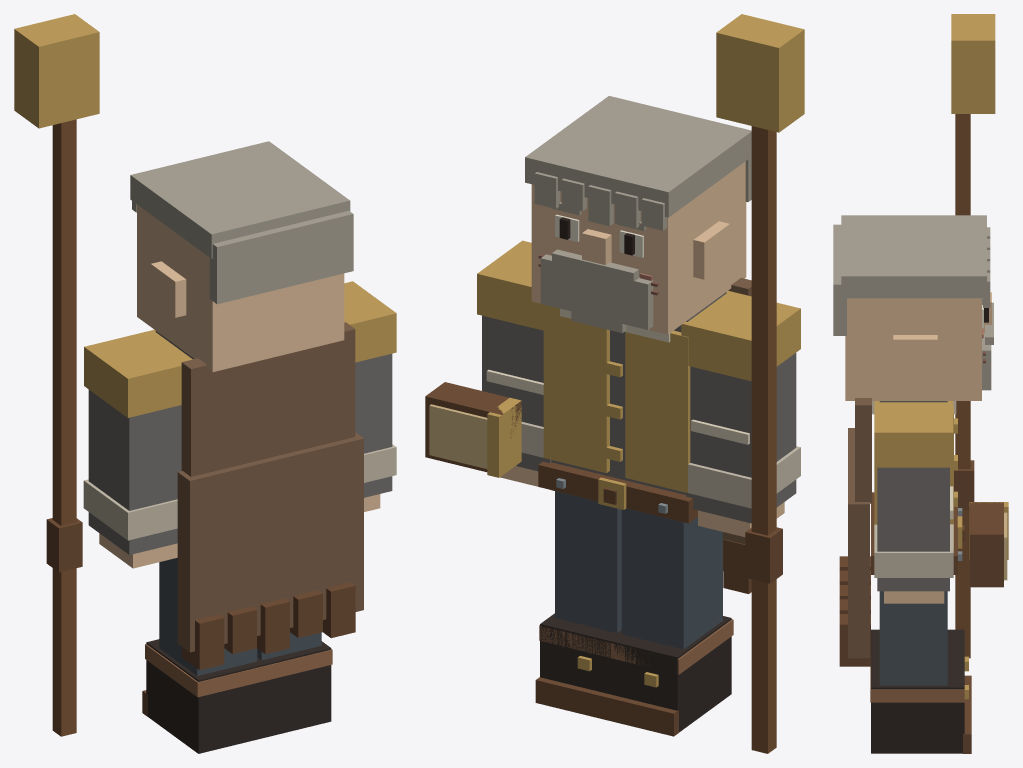
The model's file is priest.obj.
The picture shows the model from 3 angles, left to right: view 1: azimuth 30°, elevation 25°; view 2: azimuth 150°, elevation 25°; view 3: azimuth 270°, elevation 25°; orthographic projection. The views are drawn at different scales.
Parts seen in each view (by area): view 1: equipment_back, head, equipment_right, right_arm, right_leg, left_arm, left_leg; view 2: head, body, equipment_right, right_leg, right_arm, left_leg, left_arm, equipment_left, equipment_back; view 3: head, left_arm, left_leg, equipment_right, equipment_back, equipment_left, body, right_leg.
Boxes of the visible parts, x1,y1,x2,y2 form: equipment_back: (177, 322, 363, 670); head: (130, 141, 353, 371); equipment_right: (14, 14, 99, 736); right_arm: (83, 329, 192, 568); right_leg: (142, 558, 268, 753); left_arm: (344, 281, 396, 511); left_leg: (257, 632, 332, 737); head: (525, 96, 751, 334); body: (538, 292, 726, 523); equipment_right: (716, 14, 804, 753); right_leg: (602, 508, 733, 736); right_arm: (681, 290, 800, 536); left_leg: (535, 491, 621, 720); left_arm: (477, 240, 551, 486); equipment_left: (425, 382, 521, 477); equipment_back: (723, 278, 751, 593); head: (833, 215, 993, 400); left_arm: (874, 401, 953, 603); left_leg: (870, 591, 971, 753); equipment_right: (951, 14, 995, 658); equipment_back: (839, 398, 871, 666); equipment_left: (969, 502, 1008, 587); body: (871, 401, 964, 574); right_leg: (871, 629, 971, 703).
Bounding box in the file's own units: 1.28 × 2.55 × 0.6437.
